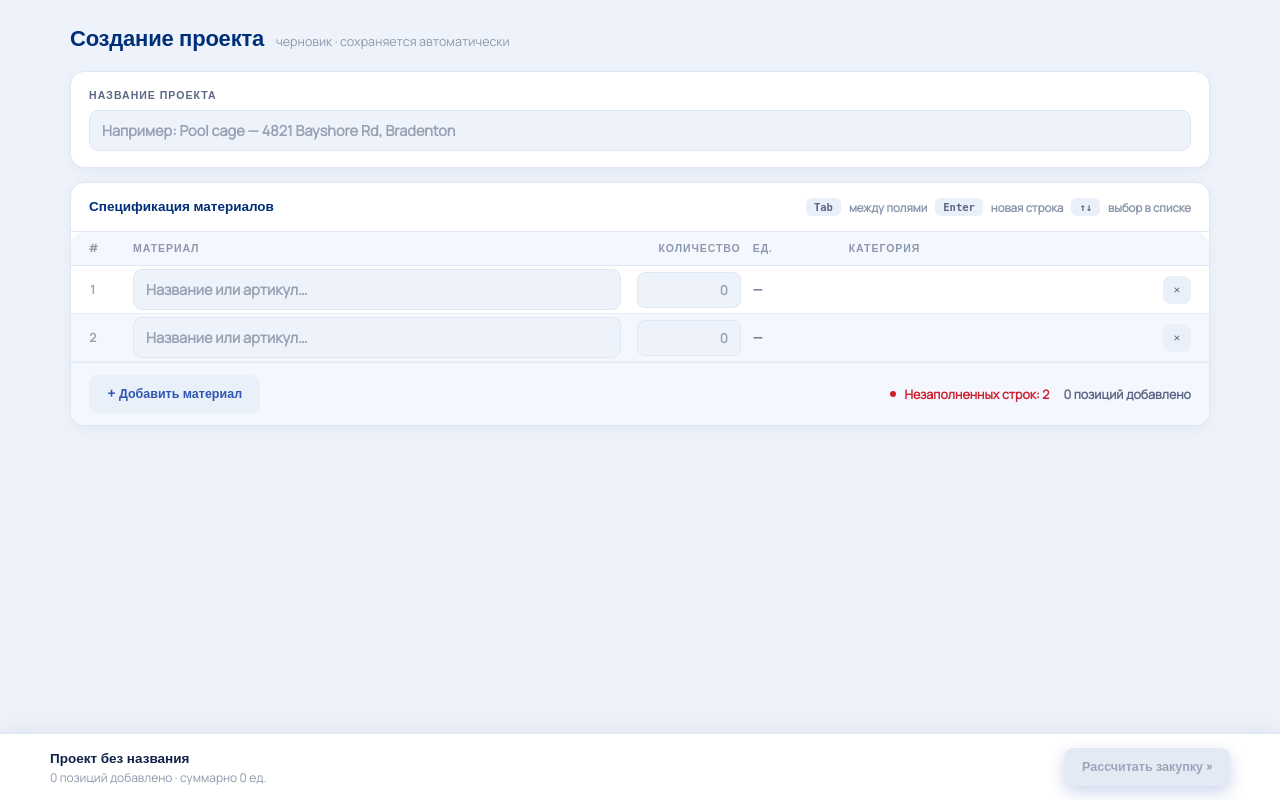
Test: ProjectBuilderPage › adds a new row on Enter in the quantity field
Type "mat" into the 2nd dropdown with placeholder "Название или артикул…". click: (377, 338)
box: [133, 317, 621, 358]
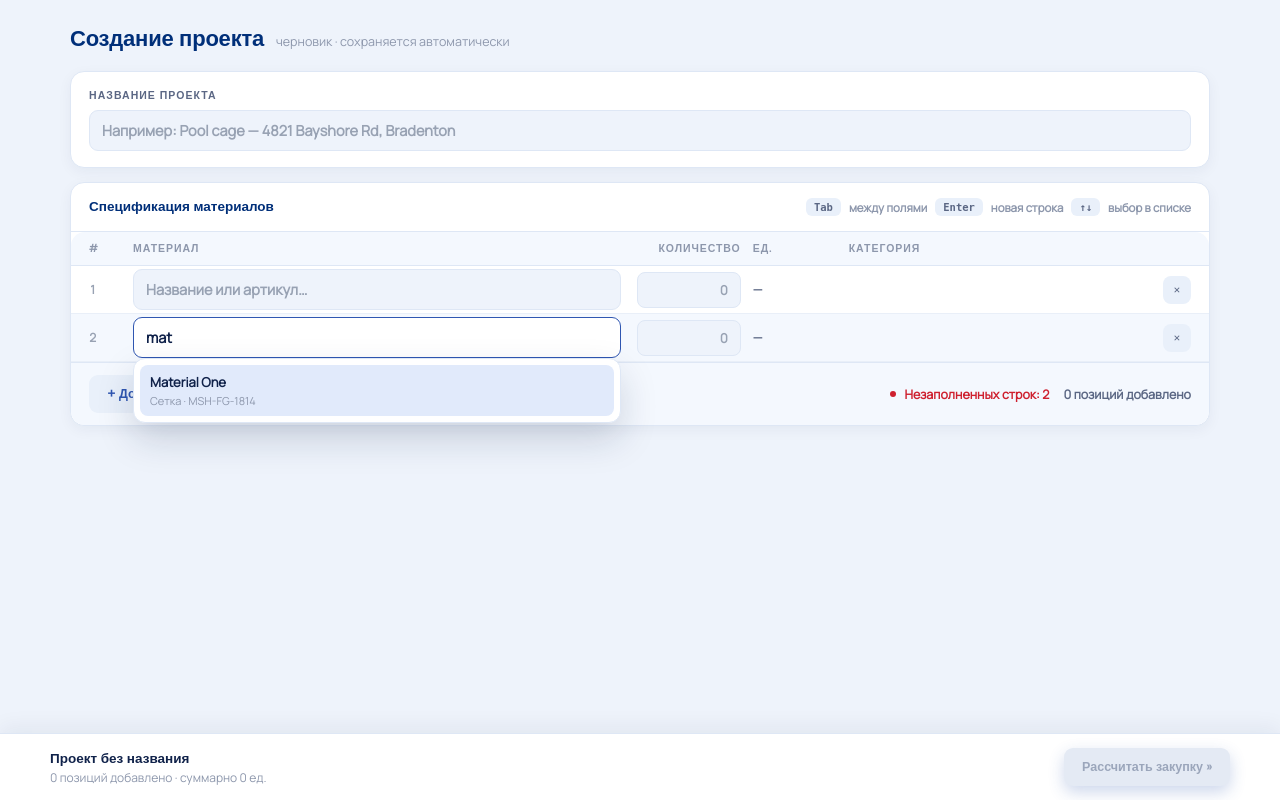
Click the text "Material One". click: (188, 382)
box: [150, 373, 226, 391]
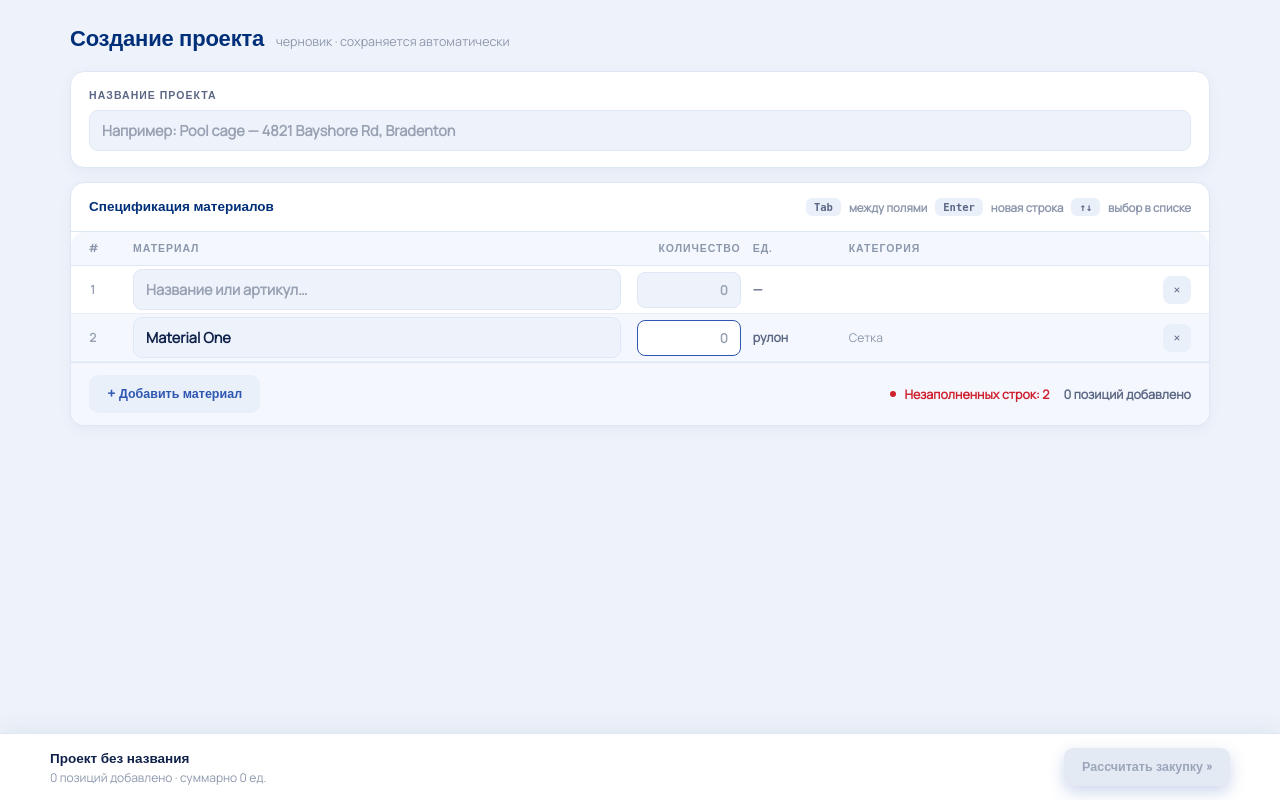
Type "3" into the number field with placeholder "0" next to "рулон". click: (689, 338)
box: [637, 320, 741, 356]
Then press Enter
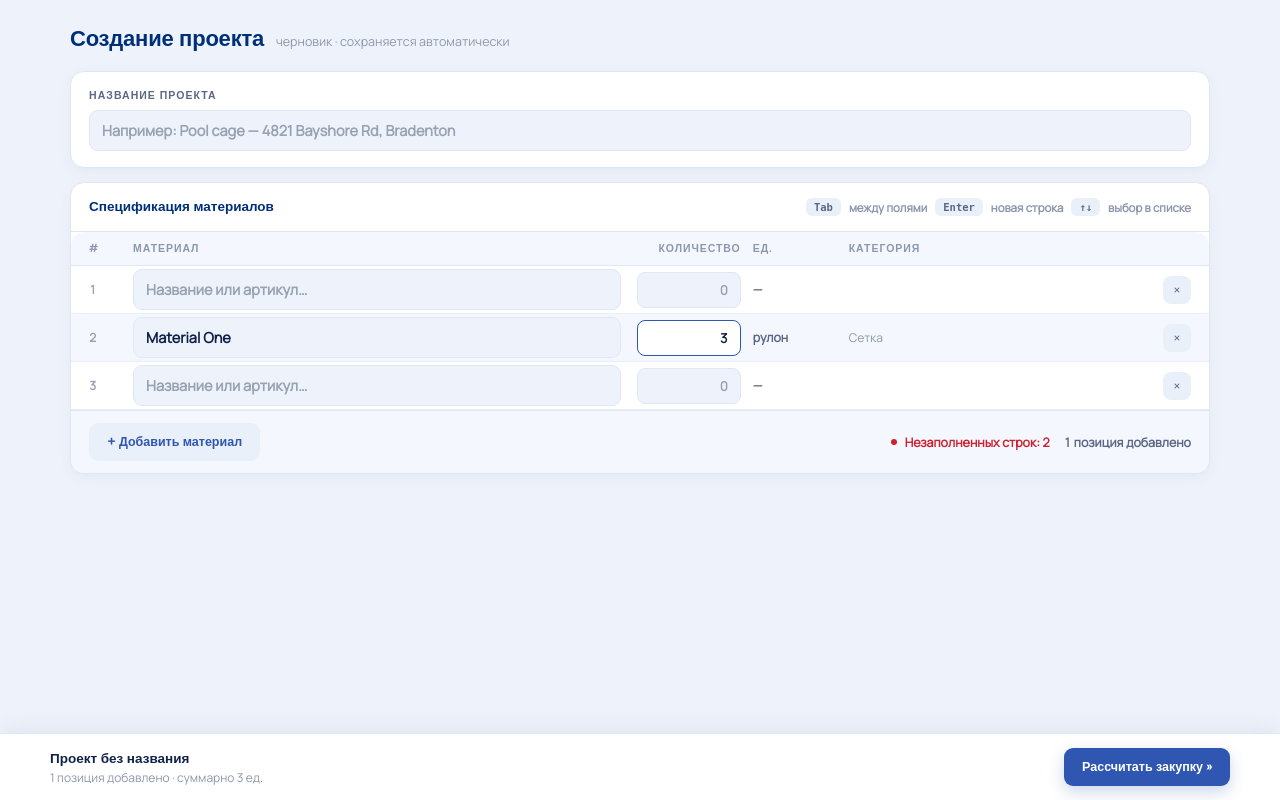
Expected: the number of dropdowns with placeholder "Название или артикул…" is 3, [133, 269, 621, 310]; [133, 317, 621, 358]; [133, 365, 621, 406]
